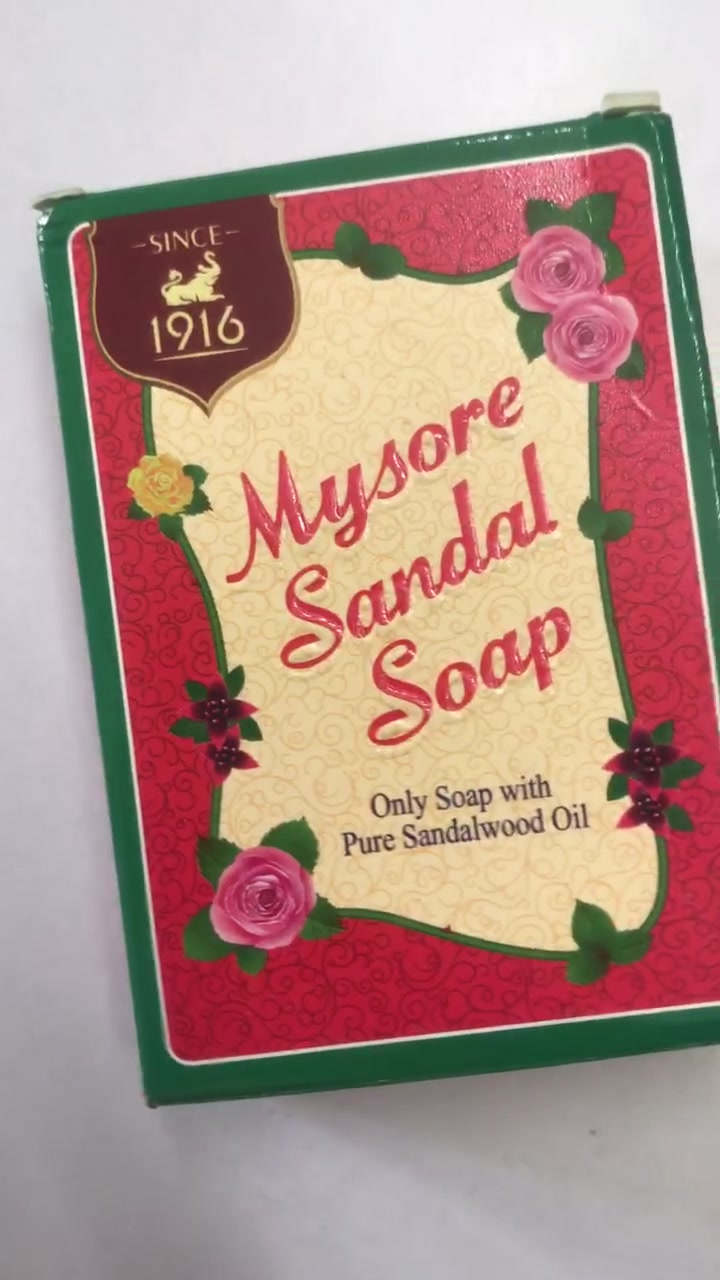mysore sandal soap: (45, 114, 720, 1114)
